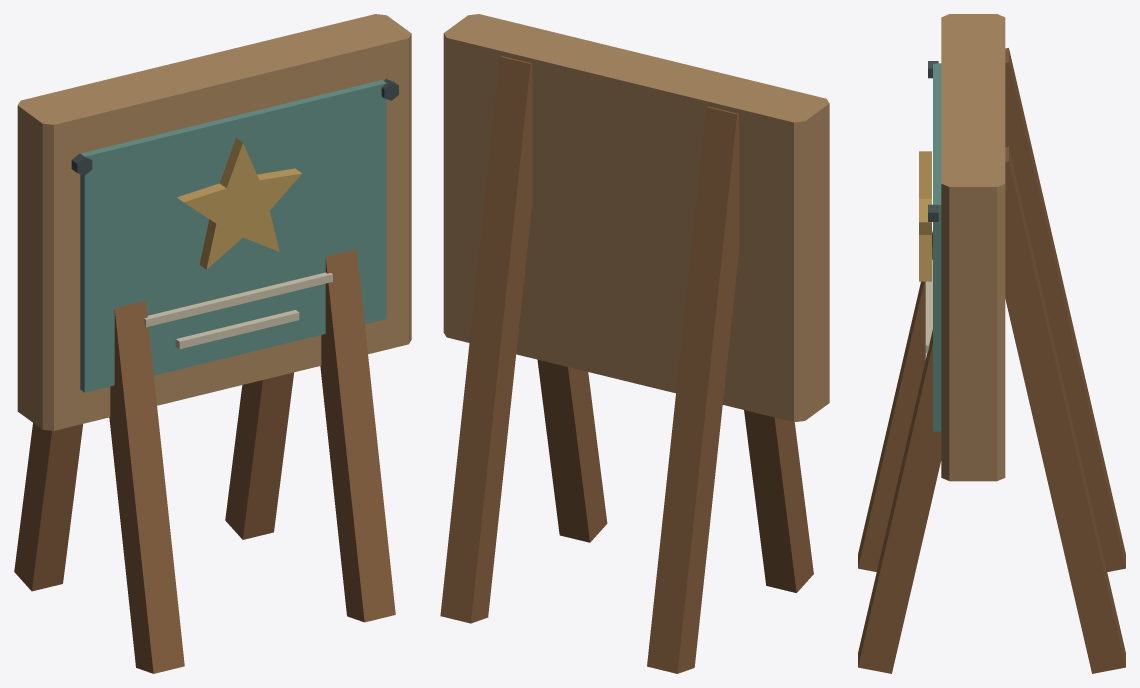
File: deco_display_sign.glb
The picture shows the model from 3 angles, left to right: view 1: azimuth 30°, elevation 25°; view 2: azimuth 150°, elevation 25°; view 3: azimuth 270°, elevation 25°; orthographic projection. The views are drawn at different scales.
Parts seen in each view (by area): view 1: geometry; view 2: geometry; view 3: geometry.
Boxes of the visible parts, x1,y1,x2,y2 form: geometry: (14, 14, 411, 673); geometry: (440, 14, 829, 673); geometry: (858, 14, 1125, 673).
Size of the model in its own units: 0.77 by 1.07 by 0.5036.
